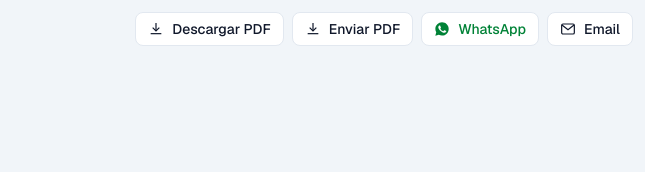
CompartirEquipo › si el navegador bloquea el envío tras descargar, pide un segundo toque
This screenshot has width=645, height=172.
Click the button "Enviar PDF": x=353, y=29 [292,12,413,46]
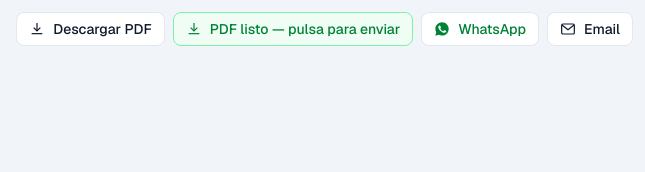
Click the button "PDF listo — pulsa para enviar": x=293, y=29 [173,12,413,46]
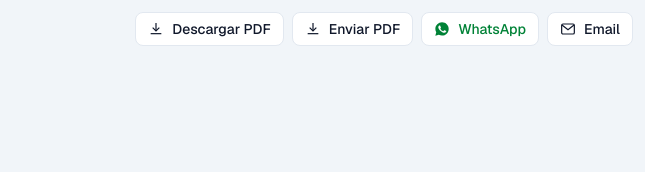
Now the button "Enviar PDF" is shown, box [292,12,413,46]
